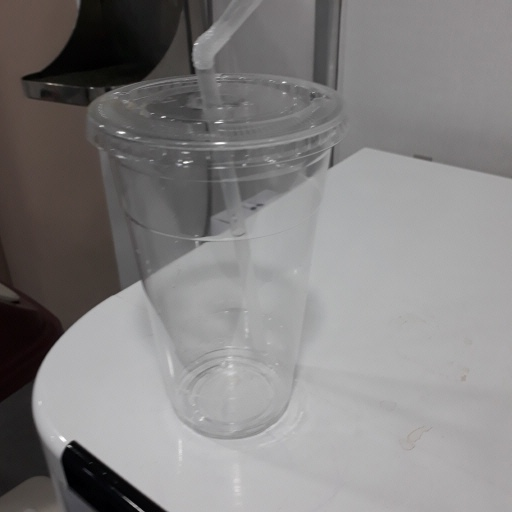Plastic_2: (85, 1, 350, 435)
